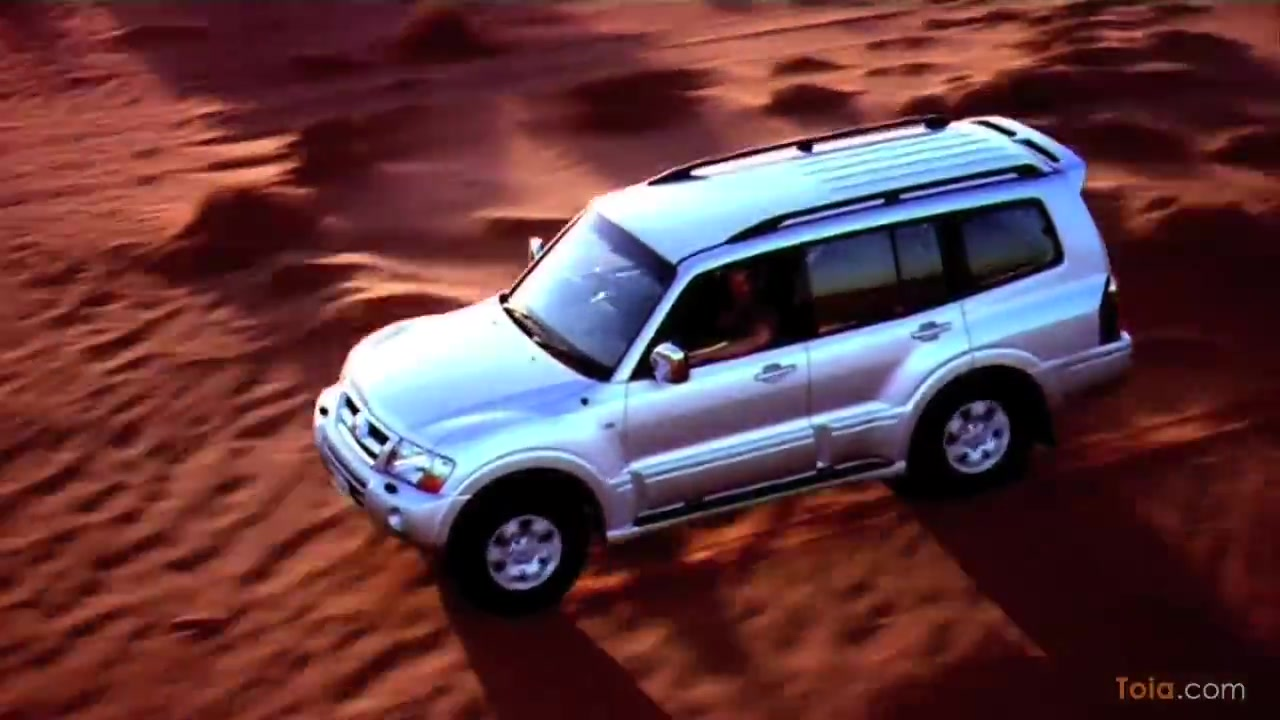car: (310, 102, 1138, 607)
